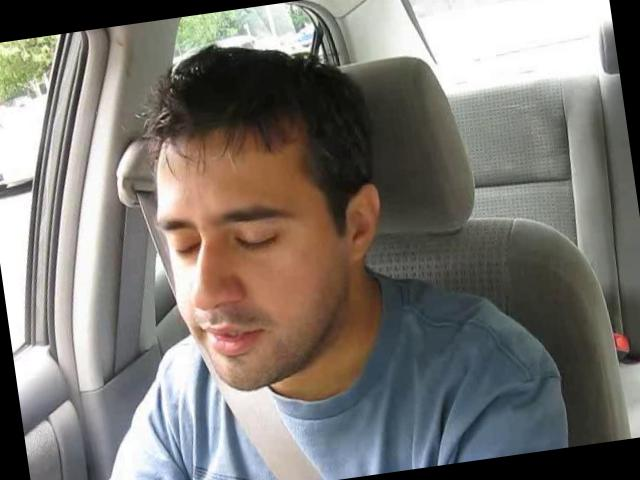eye_closed: (226, 222, 287, 264), (167, 234, 204, 266)
face: (146, 172, 340, 402)
